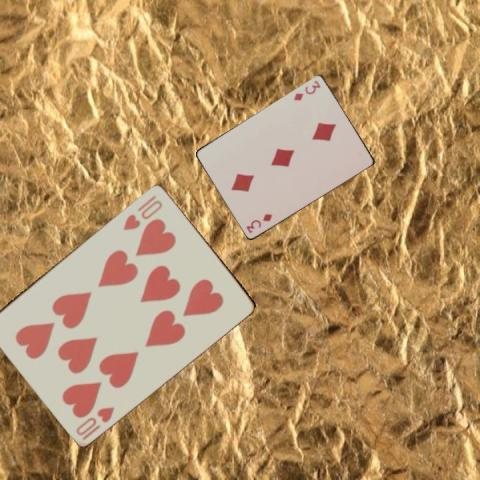10h: (120, 191, 164, 232), (73, 403, 116, 441)
3d: (291, 77, 322, 102), (243, 211, 274, 234)
